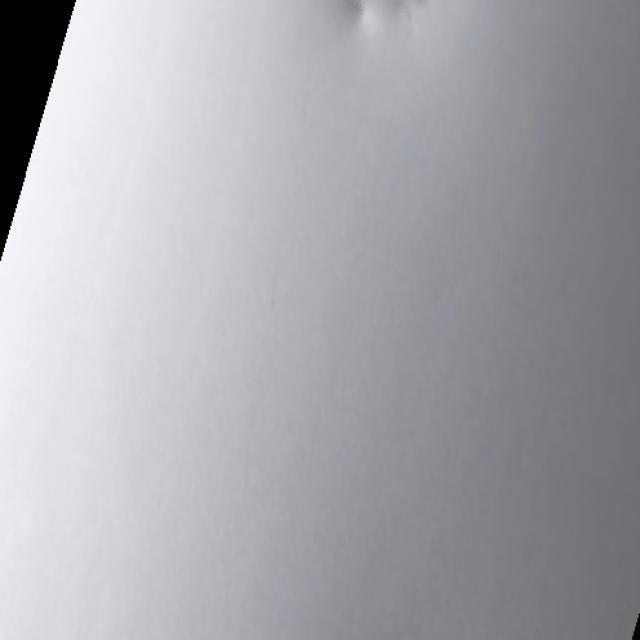dent: (338, 2, 408, 55)
